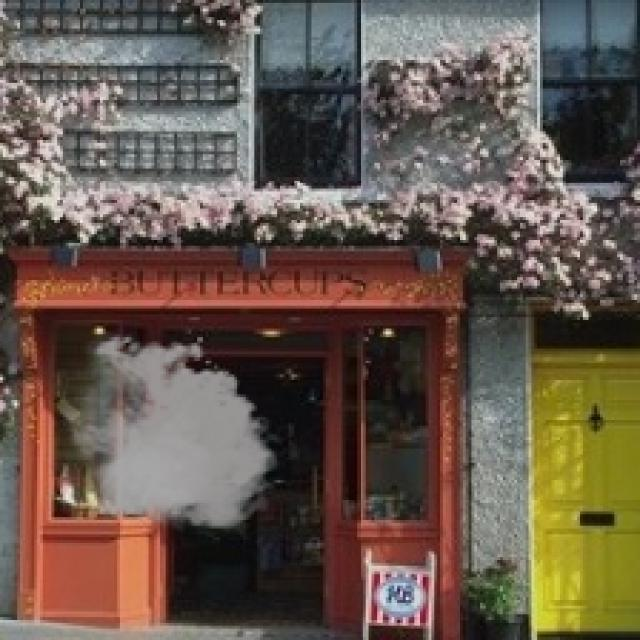smoke: (57, 329, 286, 537)
